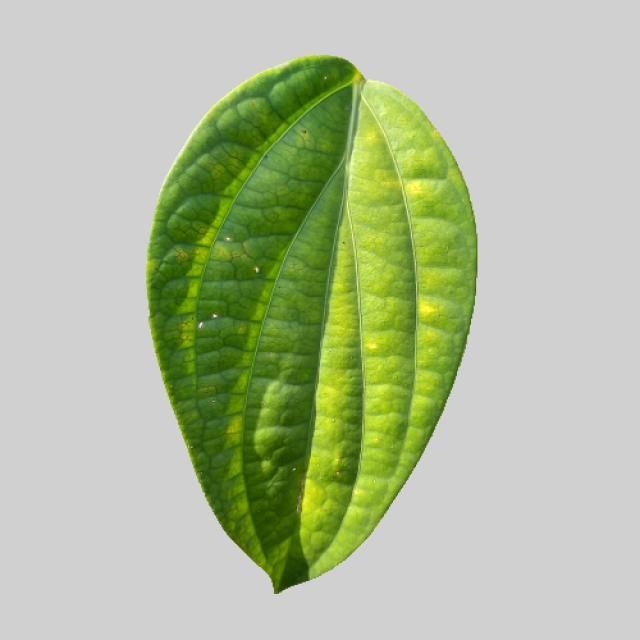healthy: (144, 57, 485, 604)
